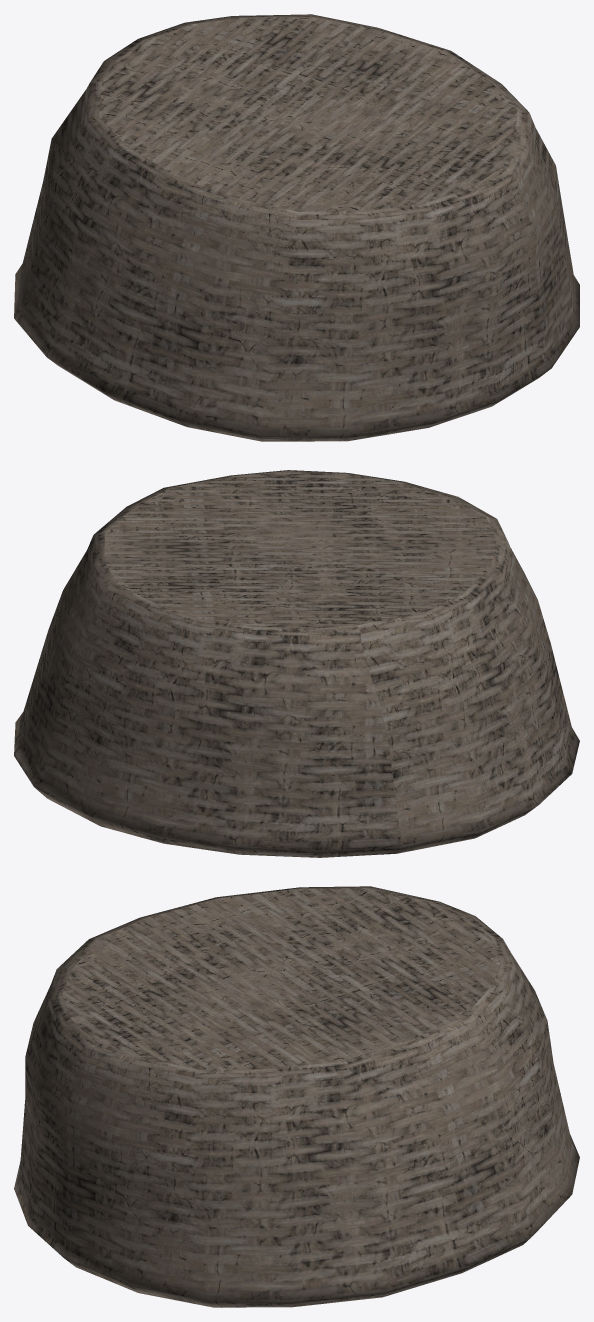
Rendered from Wicker_Basket_01_3.glb.
3 views of the same model, one above another, from view 1: azimuth 30°, elevation 25°; view 2: azimuth 150°, elevation 25°; view 3: azimuth 270°, elevation 25° (orthographic). The views are drawn at different scales.
Visible parts, largest first — view 1: Wicker_Basket_01; view 2: Wicker_Basket_01; view 3: Wicker_Basket_01.
Boxes of the visible parts, x1,y1,x2,y2 form: Wicker_Basket_01: (14, 14, 579, 441); Wicker_Basket_01: (14, 470, 579, 857); Wicker_Basket_01: (14, 886, 579, 1307).
Bounding box in the file's own units: 0.7363 × 0.332 × 0.7162.
1 material, 1 textured.
